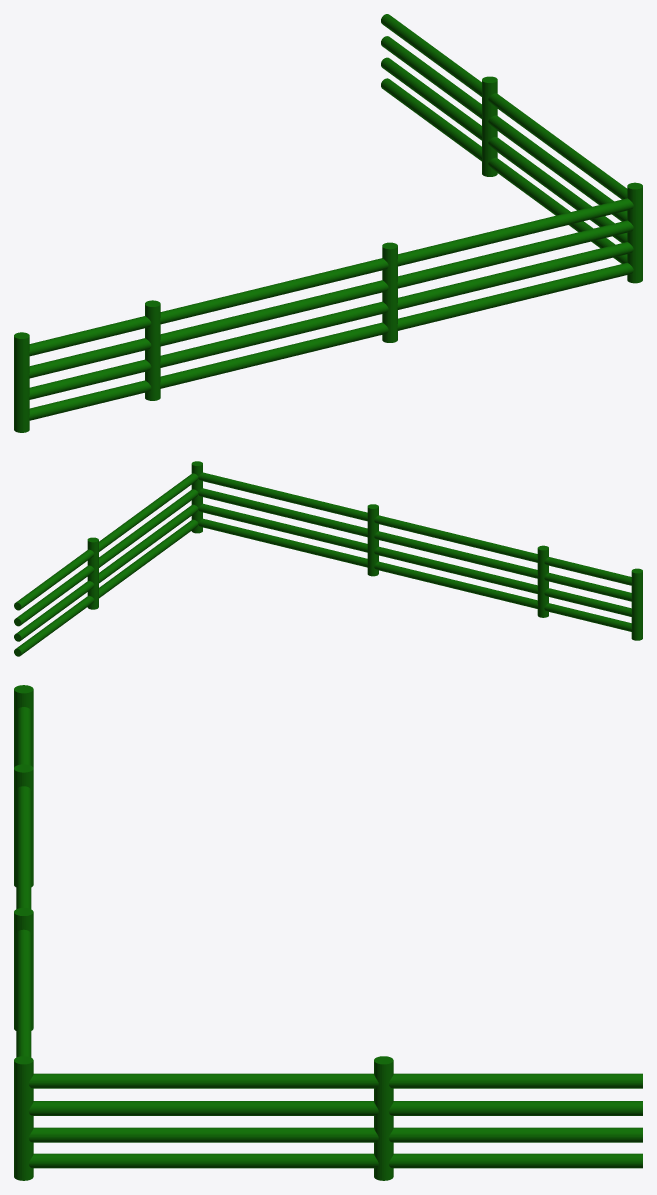
Rendered from ograda.fbx.
3 views of the same model, one above another, from view 1: azimuth 30°, elevation 25°; view 2: azimuth 150°, elevation 25°; view 3: azimuth 270°, elevation 25° (orthographic). The views are drawn at different scales.
Parts seen in each view (by area): view 1: Plane.009; view 2: Plane.009; view 3: Plane.009.
Part boxes in pixels (<box>): Plane.009: <box>14,14,642,432</box>; Plane.009: <box>14,461,642,656</box>; Plane.009: <box>14,685,642,1180</box>.
Bounding box in the file's own units: 513 × 73.49 × 360.
